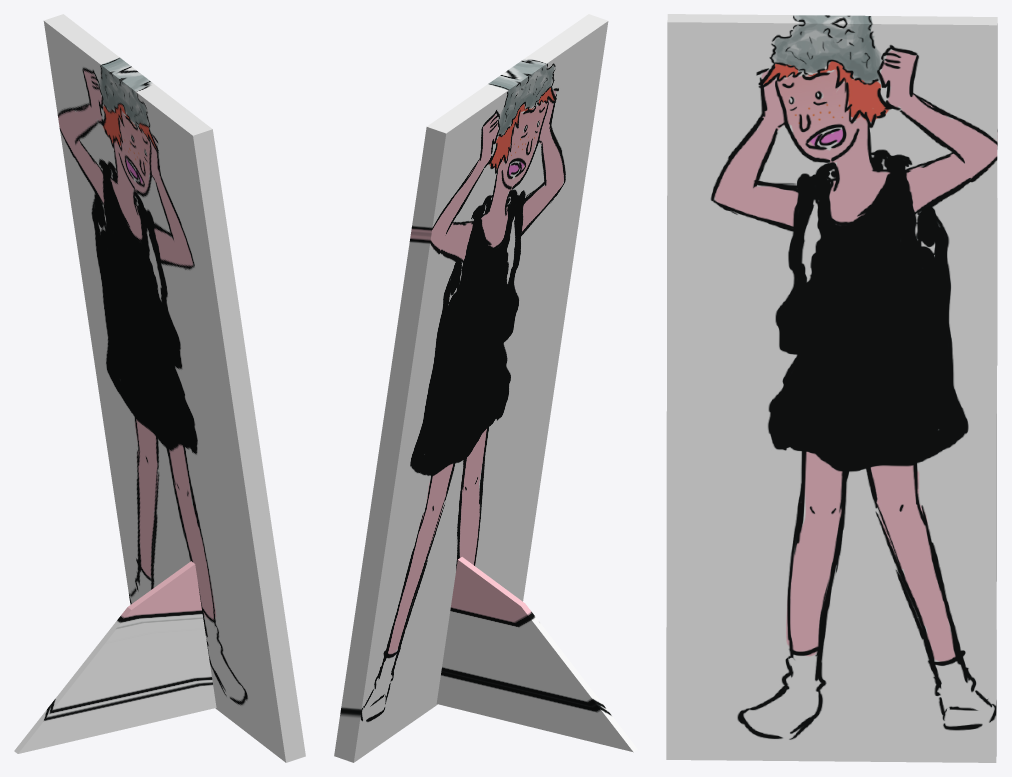
The model's file is party guy.fbx.
3 views of the same model, side by side, from view 1: azimuth 30°, elevation 25°; view 2: azimuth 150°, elevation 25°; view 3: azimuth 270°, elevation 25° (orthographic). The views are drawn at different scales.
Visible parts, largest first — view 1: Cube; view 2: Cube; view 3: Cube.
Boxes of the visible parts, x1,y1,x2,y2 form: Cube: [14, 14, 305, 762]; Cube: [334, 14, 637, 762]; Cube: [666, 14, 997, 762].
Bounding box in the file's own units: 1.16 × 3.27 × 1.42.
